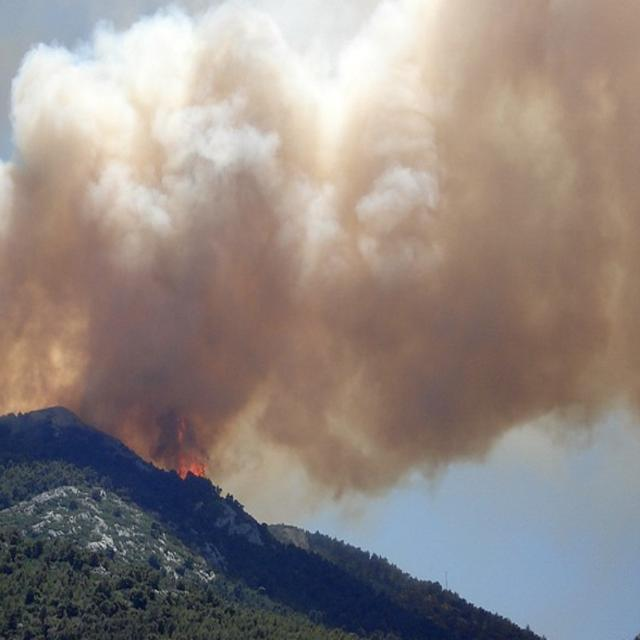Fire: (156, 416, 214, 485)
Smoke: (1, 0, 640, 522)
